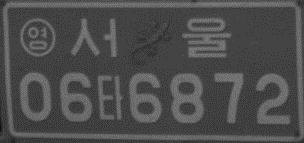0: (19, 71, 52, 123)
2: (255, 71, 292, 125)
6: (58, 72, 93, 124), (127, 71, 162, 123)
7: (213, 71, 244, 123)
8: (169, 72, 205, 123)
서울_D: (69, 16, 231, 59)
영: (18, 17, 56, 57)
타: (96, 74, 125, 123)
